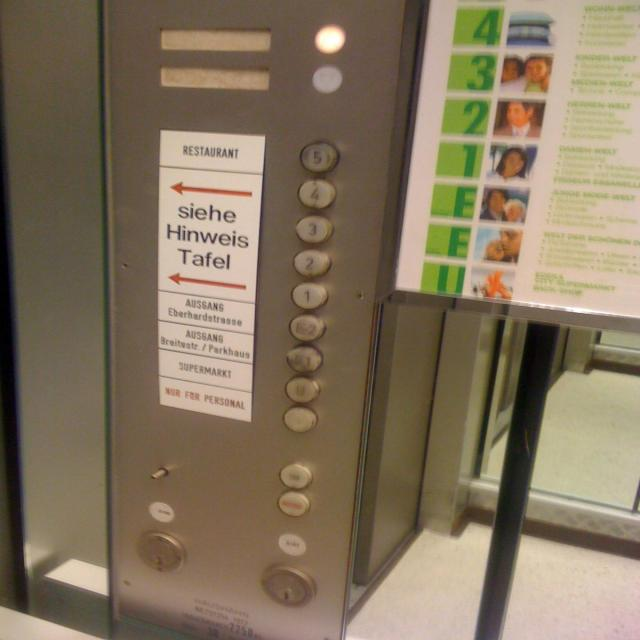1: (289, 280, 330, 311)
2: (291, 246, 333, 278)
3: (292, 213, 336, 245)
4: (294, 177, 338, 210)
5: (296, 140, 342, 174)
U: (283, 374, 322, 404)
blur: (287, 312, 328, 343), (310, 24, 350, 55), (285, 344, 325, 374), (277, 461, 314, 491), (274, 490, 312, 518)
down: (309, 63, 344, 96)
empty: (280, 406, 320, 434)
keyhole: (258, 564, 320, 610), (132, 528, 187, 576)
